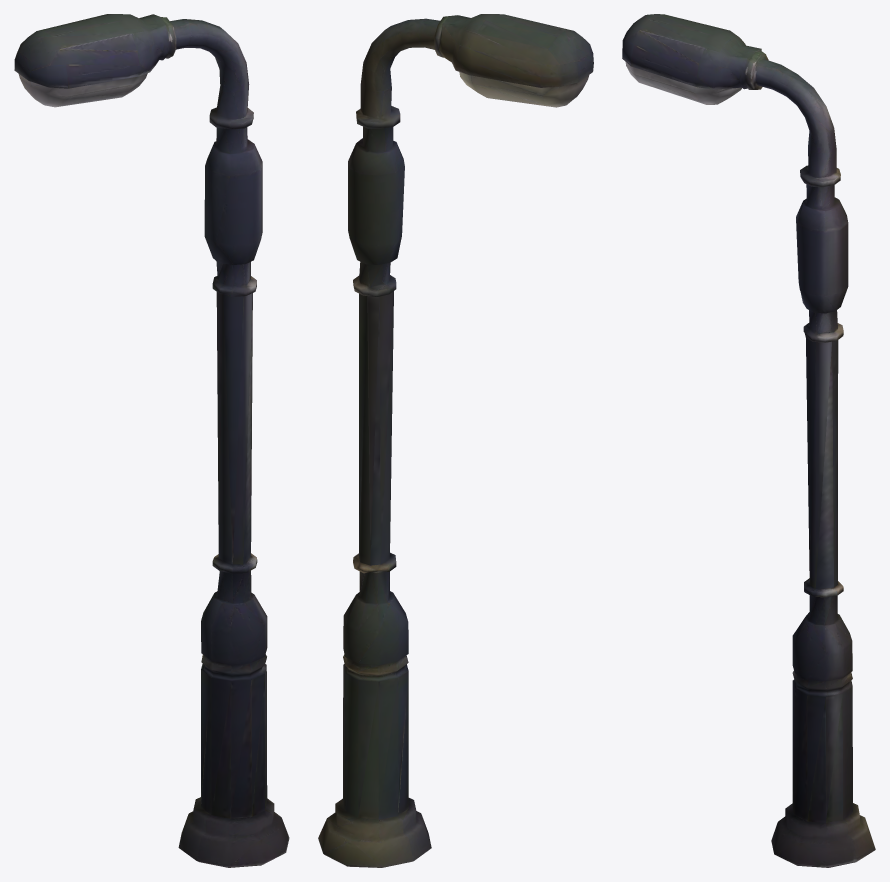
The model's file is lamp.glb.
3 views of the same model, side by side, from view 1: azimuth 30°, elevation 25°; view 2: azimuth 150°, elevation 25°; view 3: azimuth 330°, elevation 25° (orthographic). The views are drawn at different scales.
Size of the model in its own units: 0.3022 by 0.9521 by 0.1187.
Materials: 1 (1 with a texture image).
